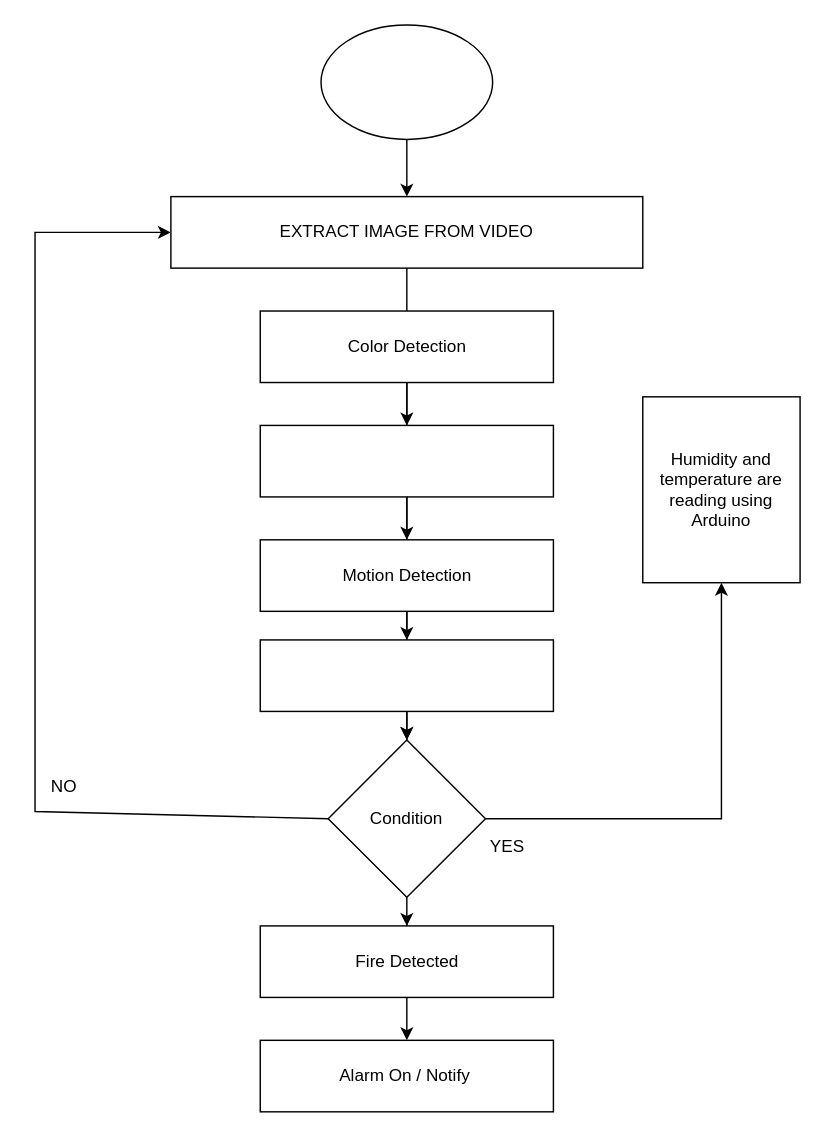
This 825x1137 diagram has some shape labels left out. Here are the shapes that lost their labels. From the top down, the centre of each, then its label:
At point (406, 81): "START".
At point (406, 460): "Area Detection".
At point (406, 674): "Smoke Detection".
